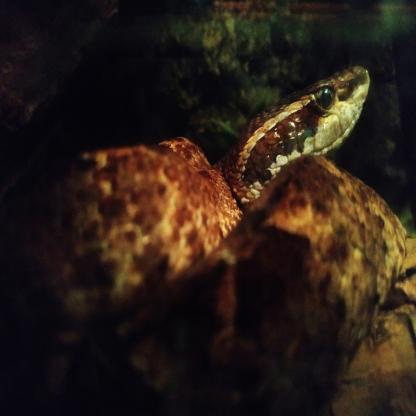Snake: (227, 60, 373, 200)
